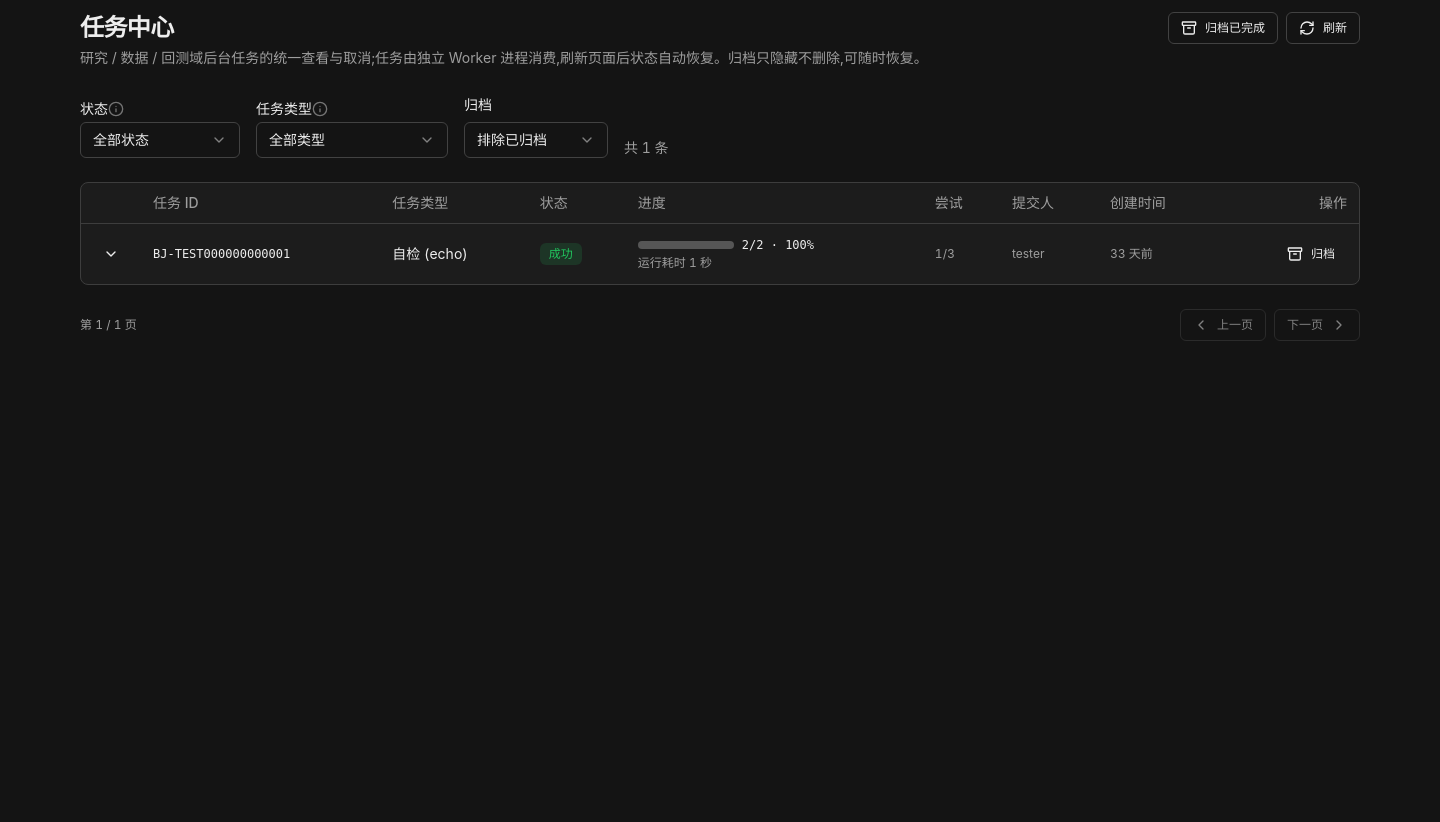
Test: 任务中心页 › 点击展开按钮显示任务详情与 payload
Expected: the text "BJ-TEST000000000001" is shown, left=141, top=223, right=380, bottom=284
Click the button named "展开任务详情" at (111,254), box left=93, top=236, right=129, bottom=272
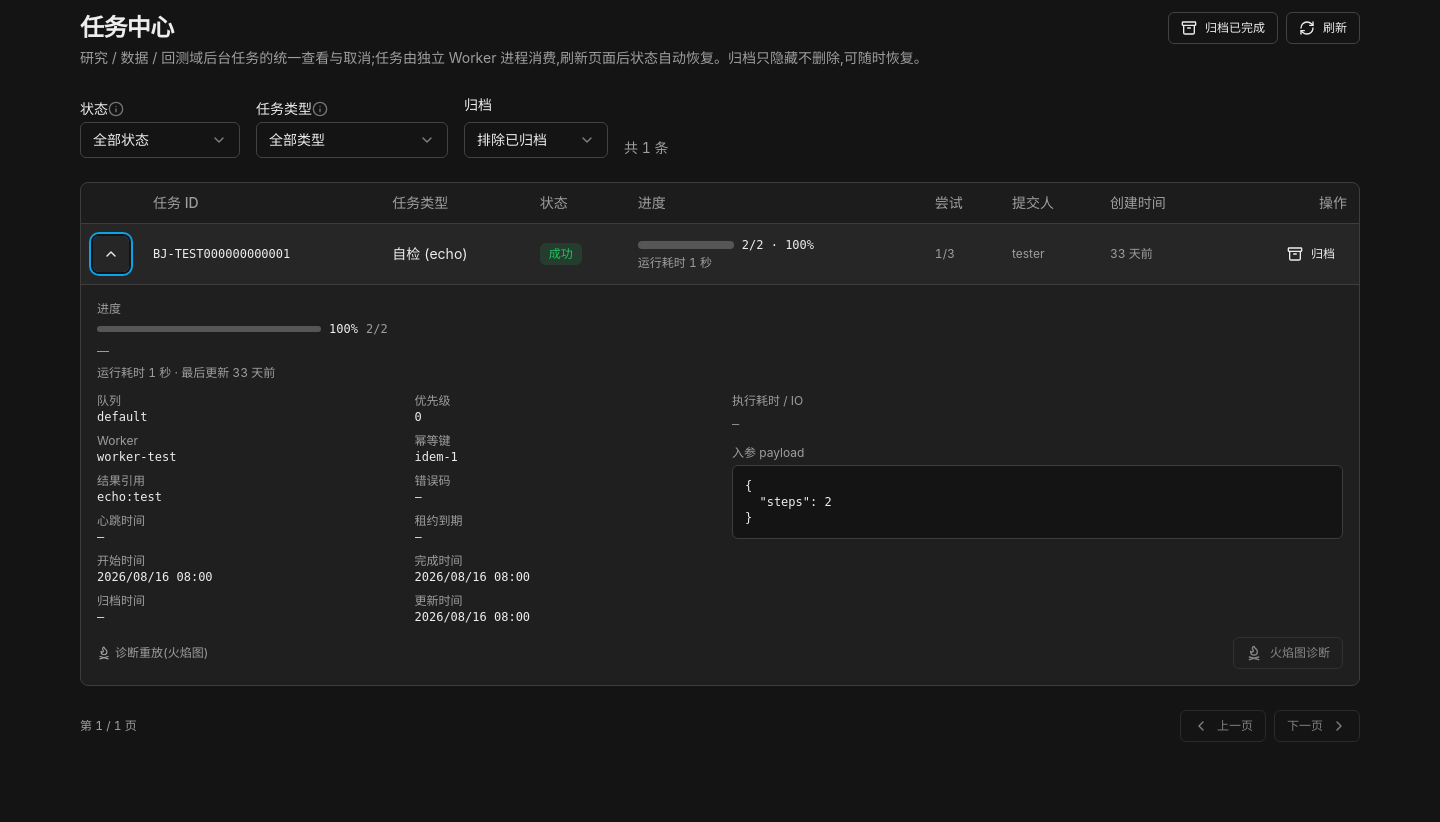
Now the text "{ \"steps\": 2 }" is shown, box left=732, top=464, right=1343, bottom=538
Now the text "结果引用" is shown, box left=97, top=472, right=145, bottom=488
